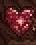lifeC: (1, 0, 36, 45)
